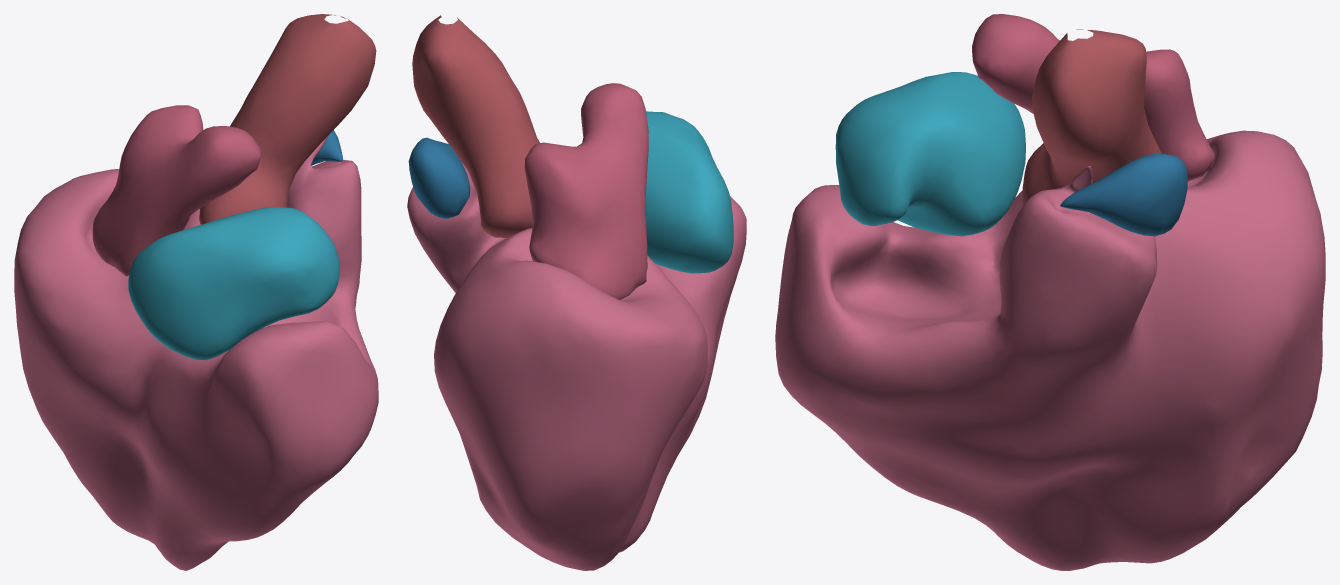
The model's file is frame_69.glb.
The picture shows the model from 3 angles, left to right: view 1: azimuth 30°, elevation 25°; view 2: azimuth 150°, elevation 25°; view 3: azimuth 270°, elevation 25°; orthographic projection. The views are drawn at different scales.
Visible parts, largest first — view 1: Renderer Node; view 2: Renderer Node; view 3: Renderer Node.
Boxes of the visible parts, left/top/right/bottom form: Renderer Node: left=14, top=14, right=378, bottom=570; Renderer Node: left=407, top=15, right=746, bottom=570; Renderer Node: left=775, top=14, right=1325, bottom=570.
Bounding box in the file's own units: 103 × 162 × 127.
